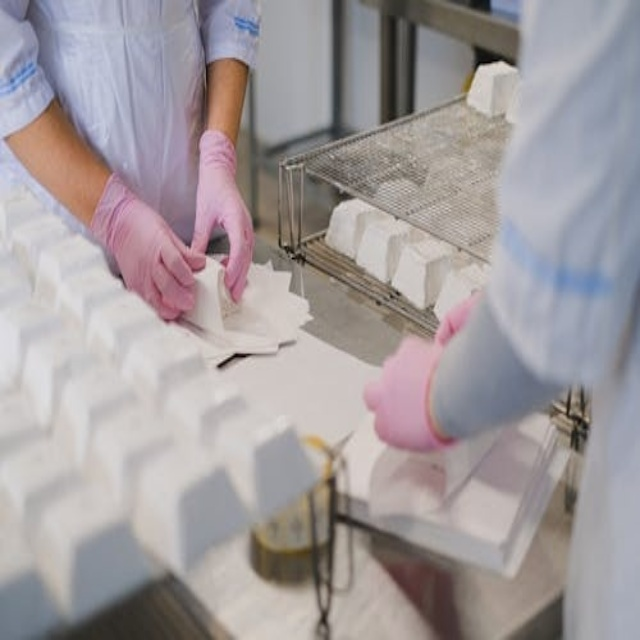Guantes: (78, 161, 206, 340), (357, 323, 462, 471), (182, 121, 259, 306), (429, 267, 486, 352)
